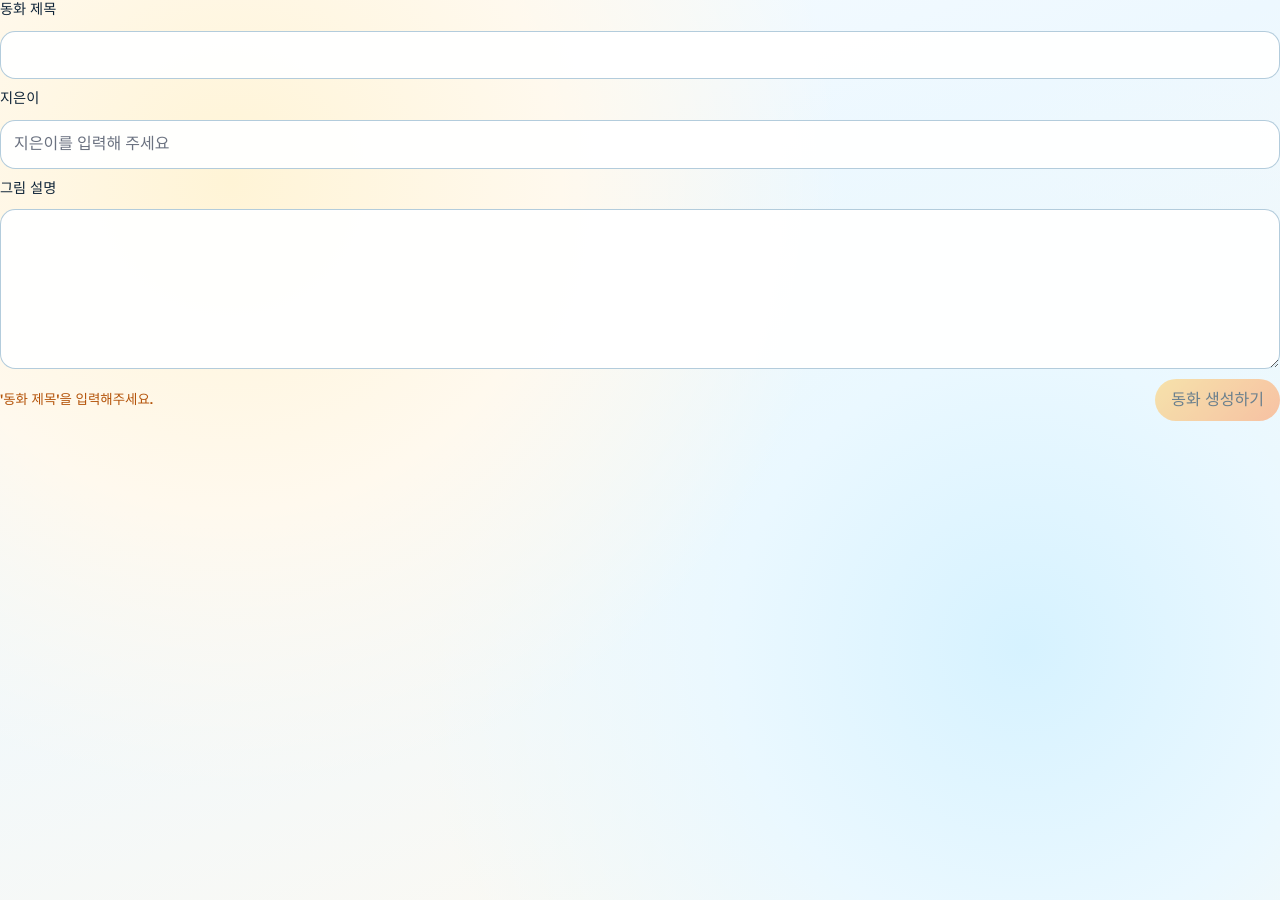
Test: StorybookDescriptionForm › 비활성화 사유는 위 입력칸부터 우선순위대로 표시된다
expect the text "'동화 제목'을 입력해주세요." is shown: met, box [0, 390, 153, 410]
Type "달님이 구름 위를 산책해요" into the text box labelled "그림 설명" at (640, 289), box [0, 209, 1279, 369]
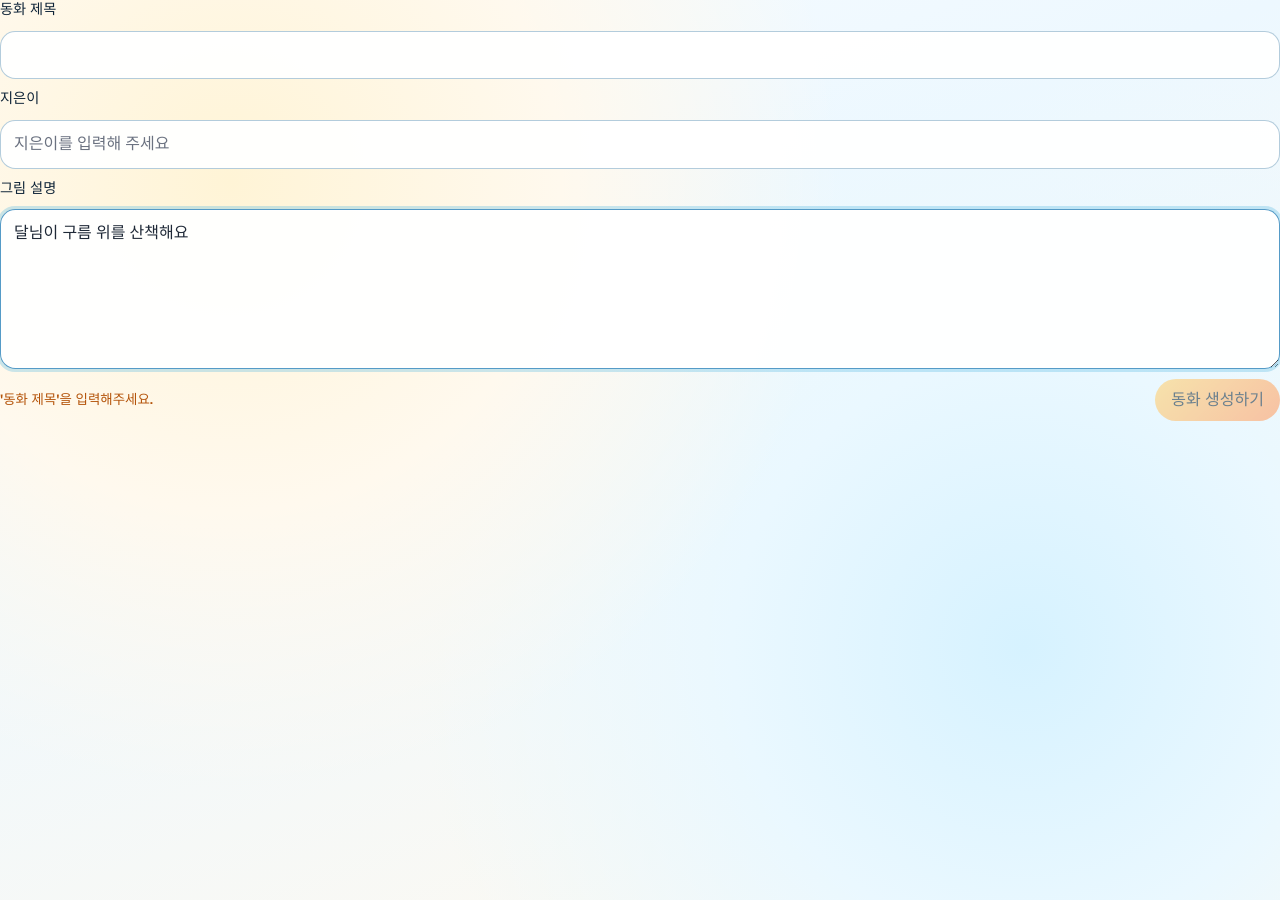
expect the text "'동화 제목'을 입력해주세요." is shown: met, box [0, 390, 153, 410]
expect the button "동화 생성하기" is disabled: met, box [1155, 379, 1279, 421]
Type "달님 산책" into the field labelled "동화 제목" at (640, 55), box [0, 30, 1279, 79]
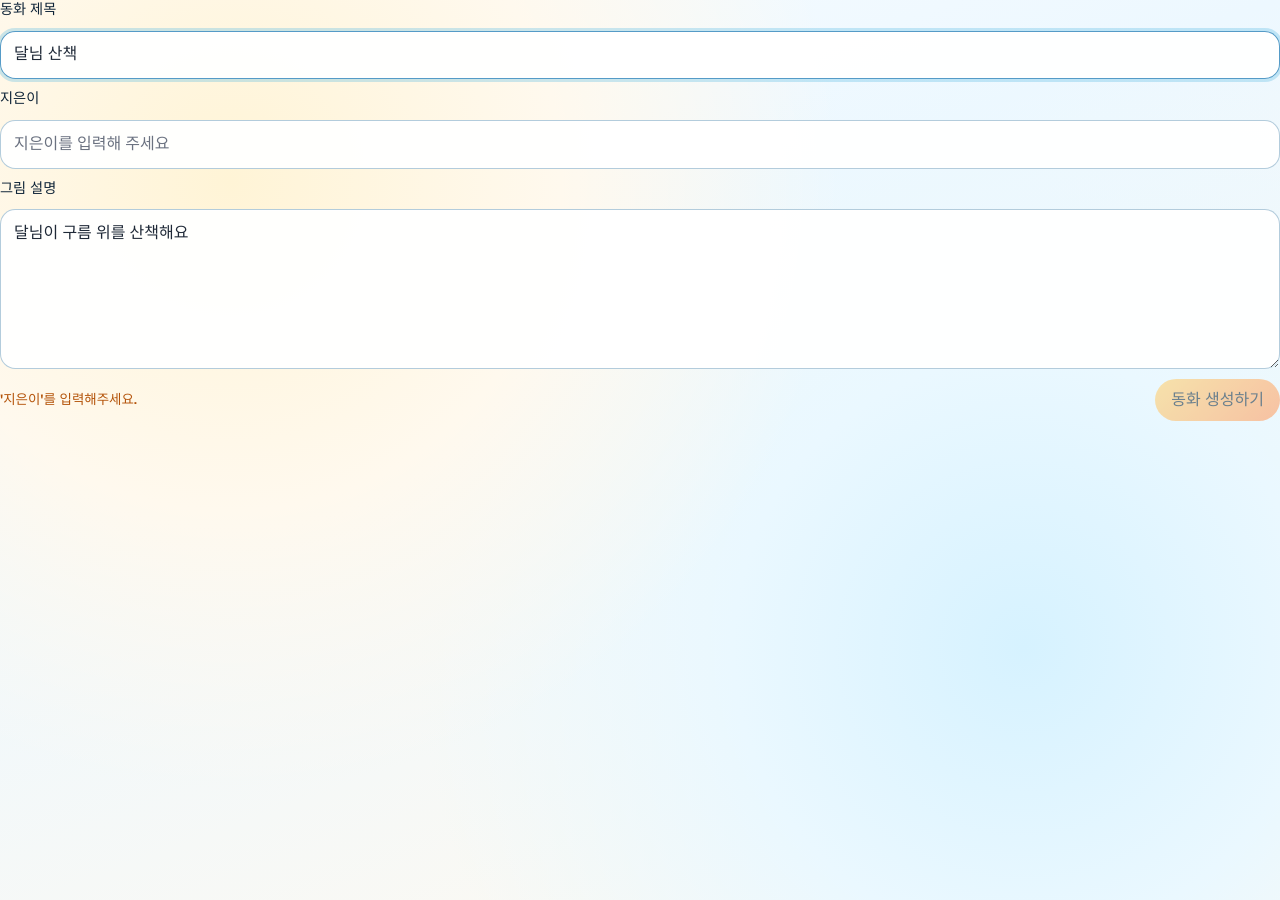
expect the button "동화 생성하기" is disabled: met, box [1155, 379, 1279, 421]
expect the text "'지은이'를 입력해주세요." is shown: met, box [0, 390, 137, 410]
Type "달빛 작가" into the field labelled "지은이" at (640, 144), box [0, 120, 1279, 169]
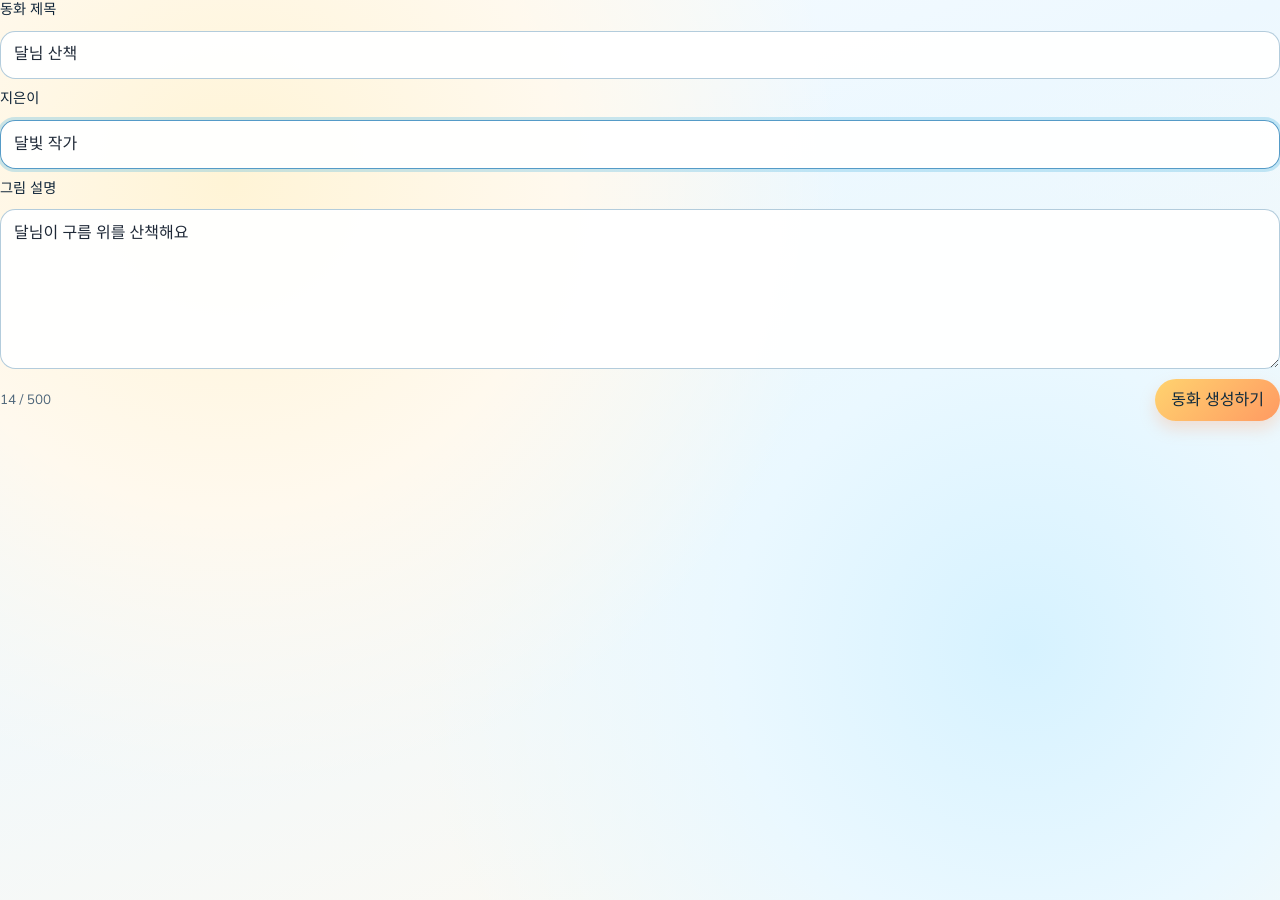
expect the text "14 / 500" is shown: met, box [0, 390, 51, 410]
expect the button "동화 생성하기" is enabled: met, box [1155, 379, 1279, 421]
